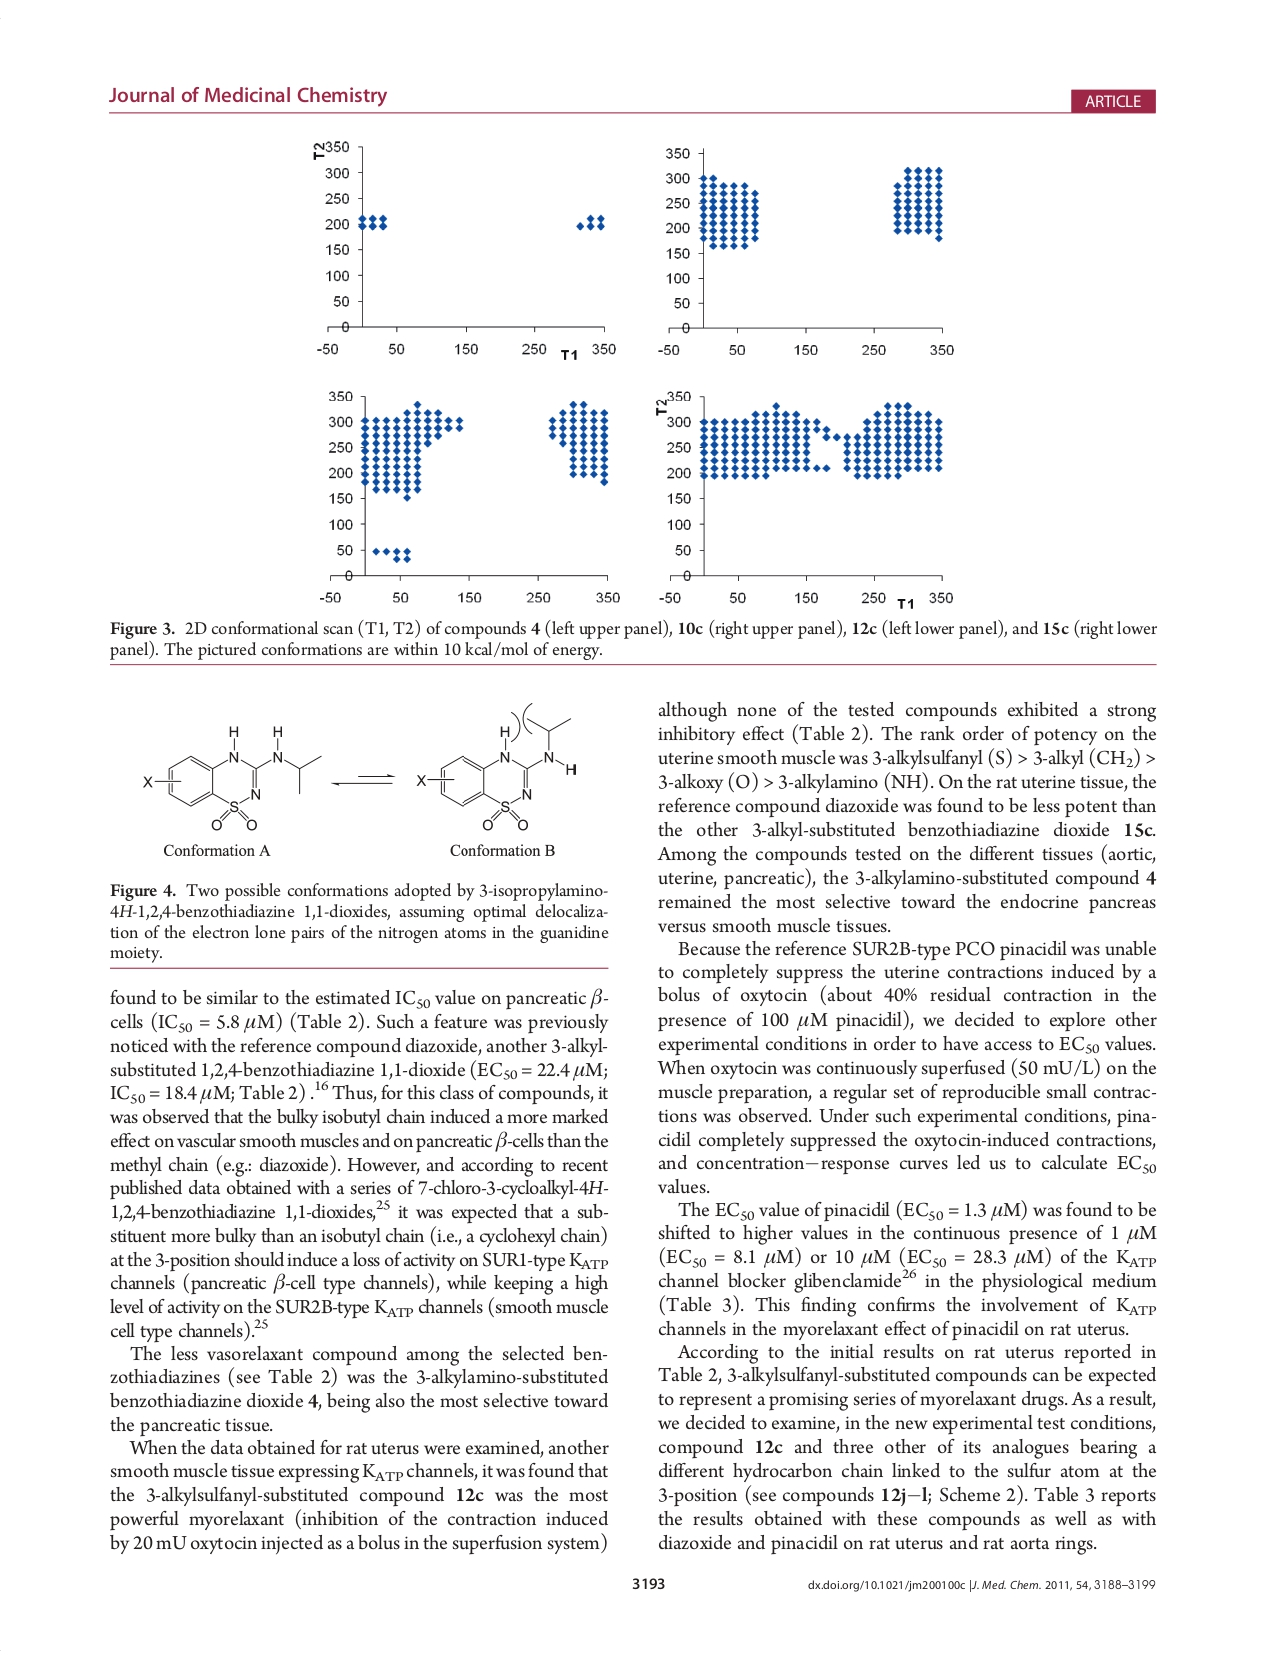exist_molecular: (414, 700, 578, 836), (140, 722, 324, 833)
